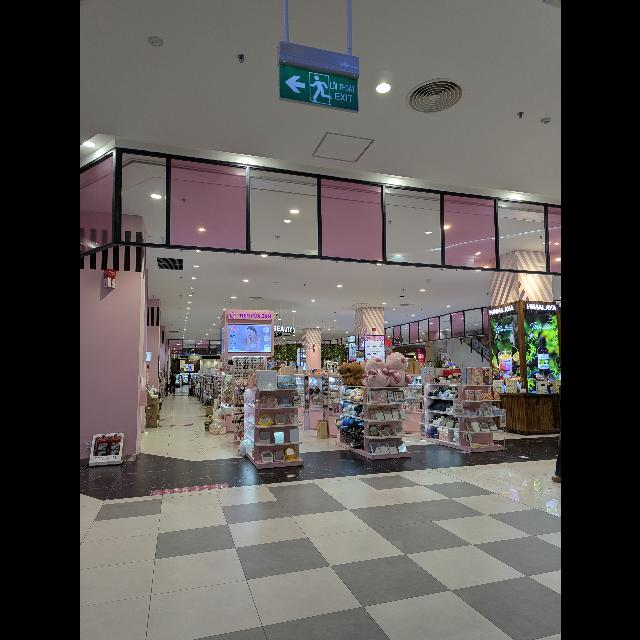exit: (278, 63, 356, 113)
